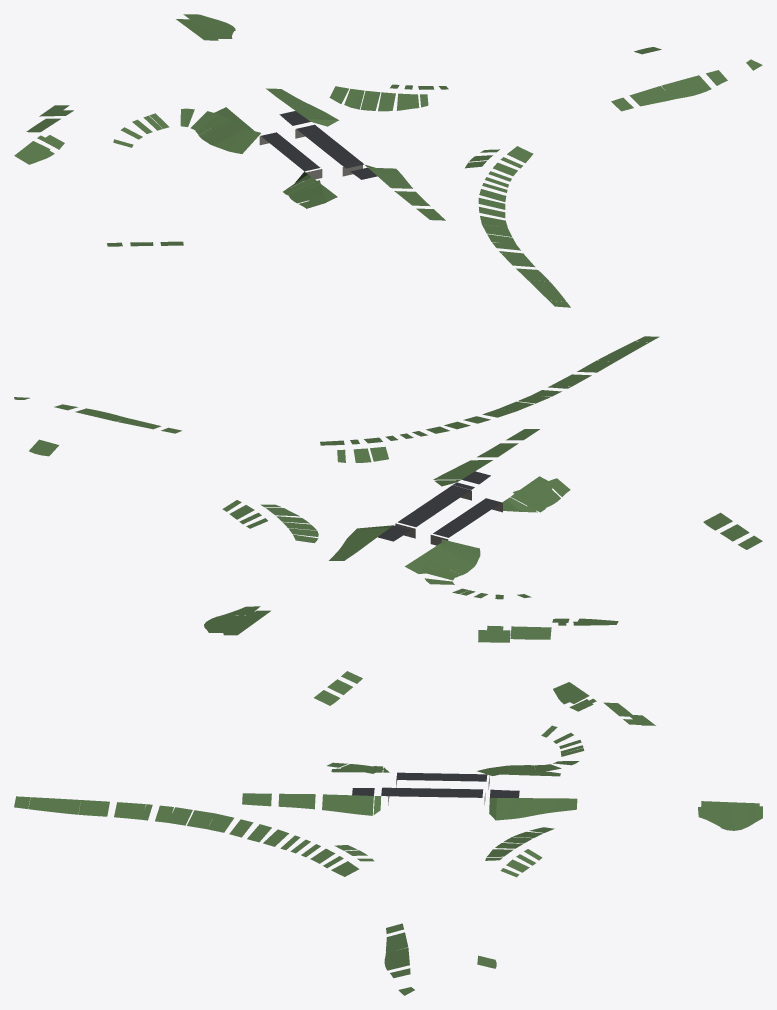
The model's file is br_y79_bremner_lod3.gltf.
The picture shows the model from 3 angles, top to bottom: view 1: azimuth 30°, elevation 25°; view 2: azimuth 150°, elevation 25°; view 3: azimuth 270°, elevation 25°; orthographic projection. The views are drawn at different scales.
Parts seen in each view (by area): view 1: br_y79_bremner_lod3; view 2: br_y79_bremner_lod3; view 3: br_y79_bremner_lod3.
Boxes of the visible parts, <box> form: br_y79_bremner_lod3: <box>14,14,762,307</box>; br_y79_bremner_lod3: <box>14,336,762,642</box>; br_y79_bremner_lod3: <box>14,671,762,995</box>.
Bounding box in the file's own units: 618 × 11.58 × 616.
